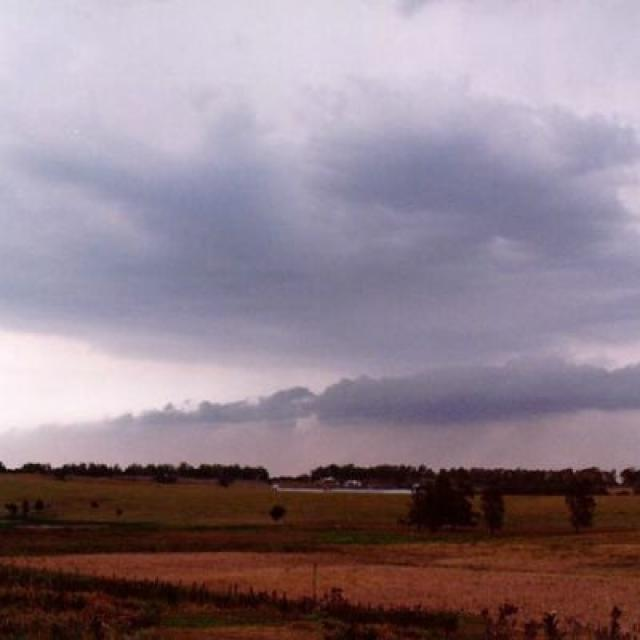St: (3, 47, 640, 433)
